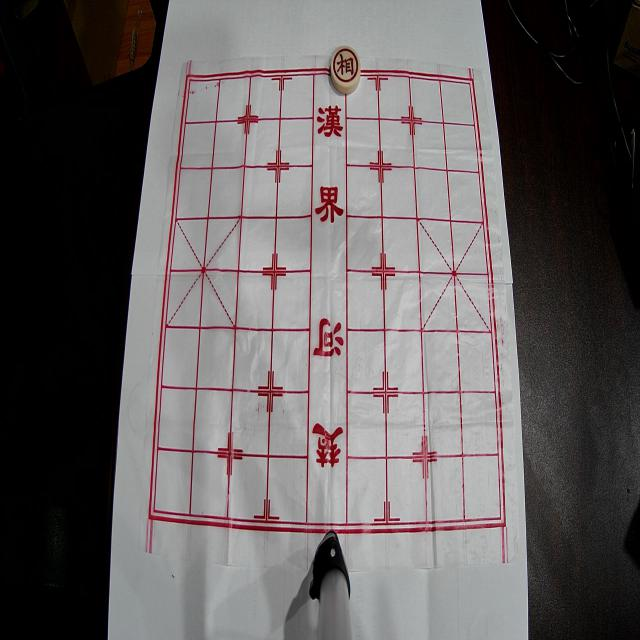red-elephant: (331, 46, 361, 94)
